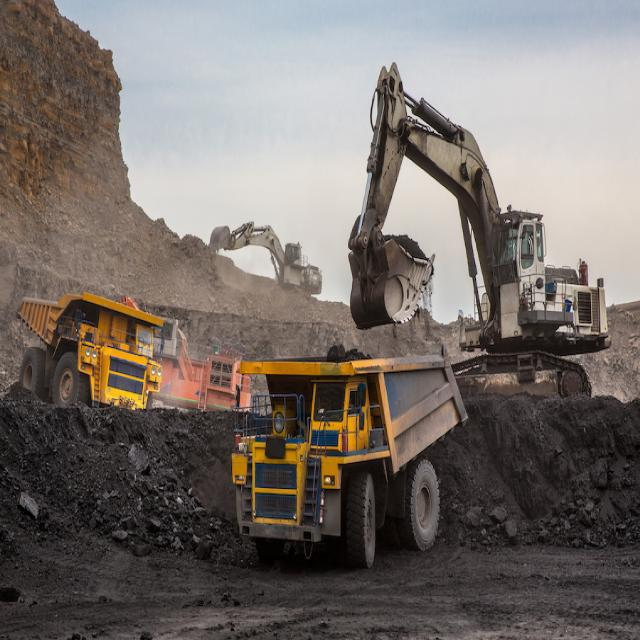dump_truck: (210, 332, 461, 554), (10, 276, 166, 430)
excavator: (343, 49, 618, 413), (204, 200, 339, 314)
